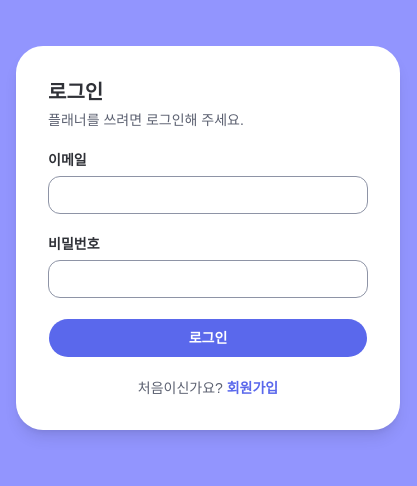
AuthGate: 로그인 문지기 › 회원가입: 확인 메일이 필요하면 안내하고 로그인 화면으로 돌아간다
Click the button "회원가입" at [252, 388], box x1=227 y1=378 x2=278 y2=398
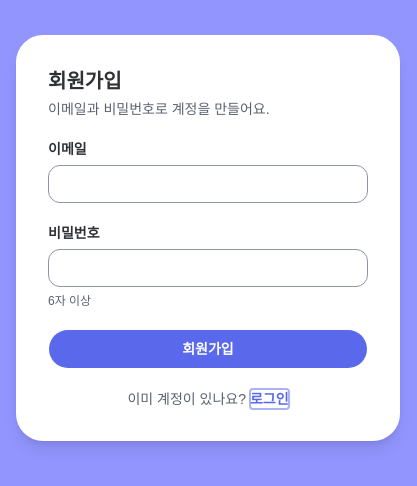
expect the heading "회원가입" is shown: met, box x1=48 y1=70 x2=122 y2=92
Type "me@example.com" into the field labelled "이메일" at [208, 184], box x1=48 y1=165 x2=368 y2=203
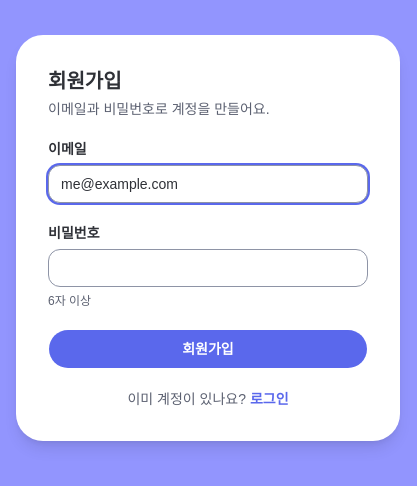
Type "secret123" into the password field labelled "비밀번호" at [208, 268], box x1=48 y1=249 x2=368 y2=287
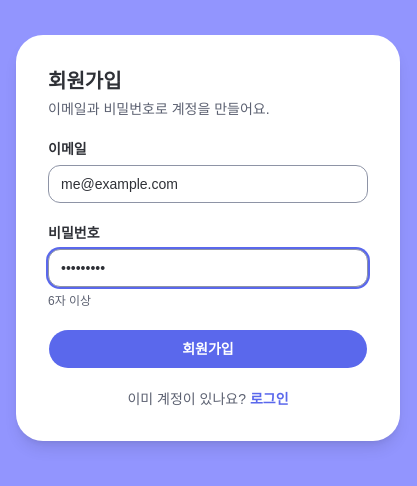
Click the button "회원가입" at [208, 349], box x1=48 y1=329 x2=368 y2=369
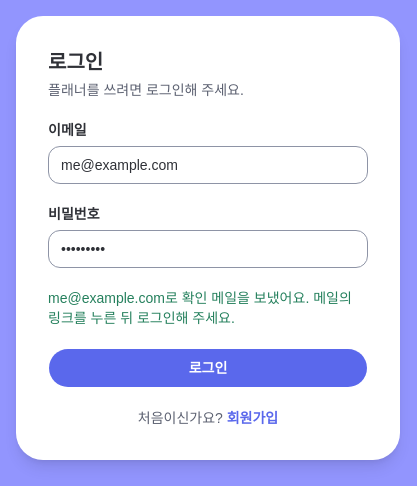
expect the message shows "확인 메일을 보냈어요": met, box x1=48 y1=290 x2=352 y2=326
expect the heading "로그인" is shown: met, box x1=48 y1=51 x2=103 y2=73
